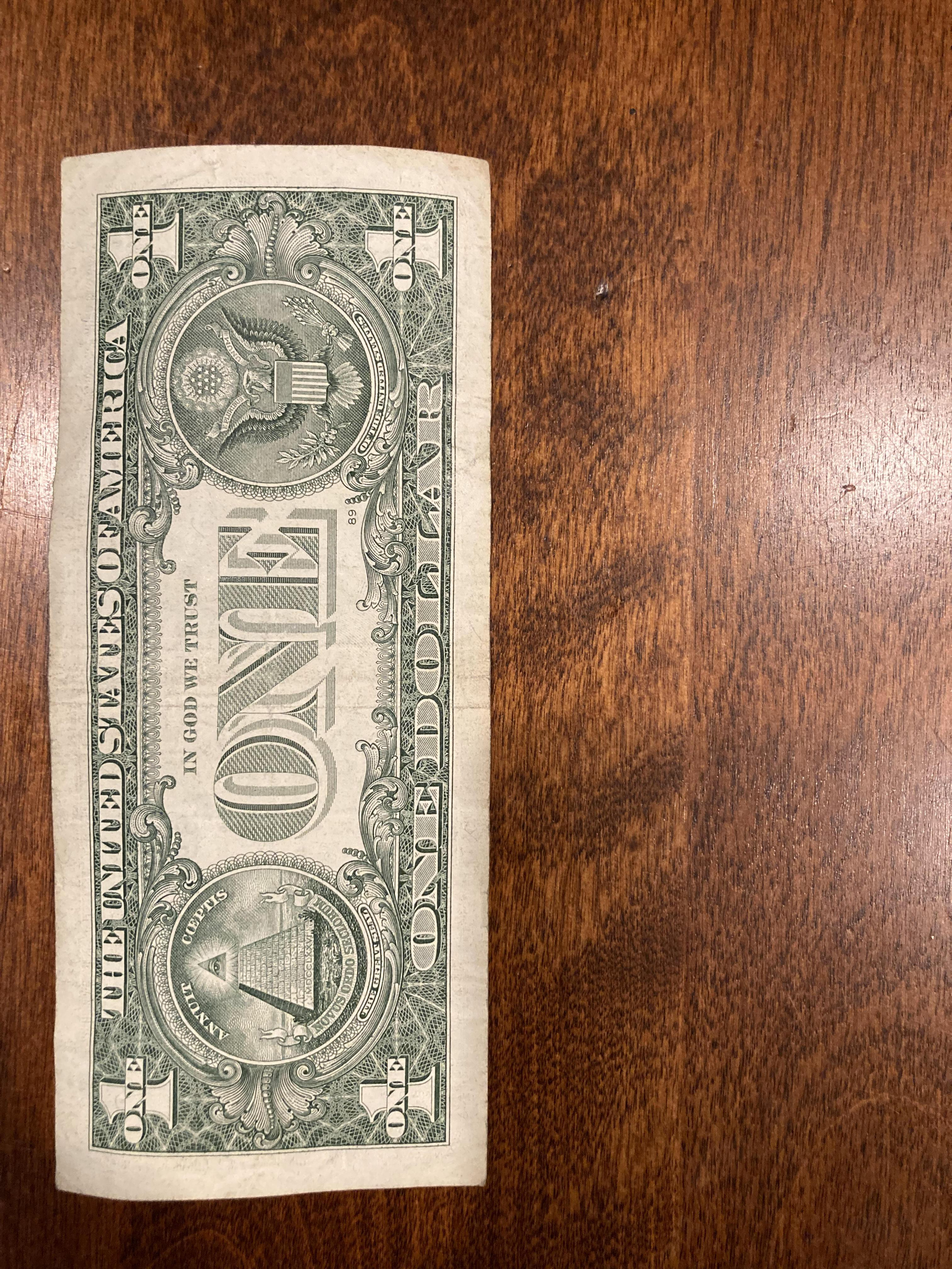one-back: (52, 145, 495, 1204)
